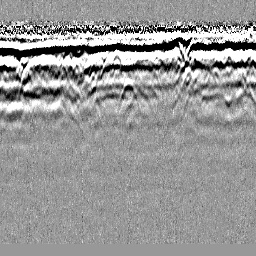cavity: (116, 76, 141, 115)
